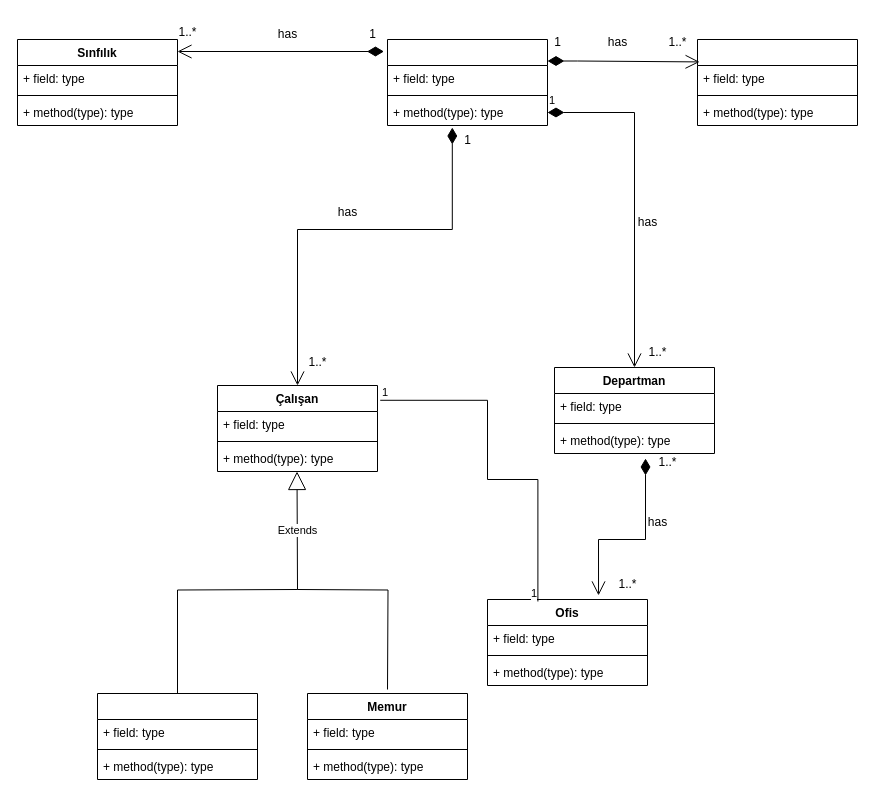
The diagram is 875 pixels wide and 799 high, and some of its shapes have lost their labels. Each missing label, with the box of its shape:
Profesör: (96, 692, 258, 780)
Çalışma Ofisi: (696, 38, 858, 126)
Üniversite: (386, 38, 548, 126)
